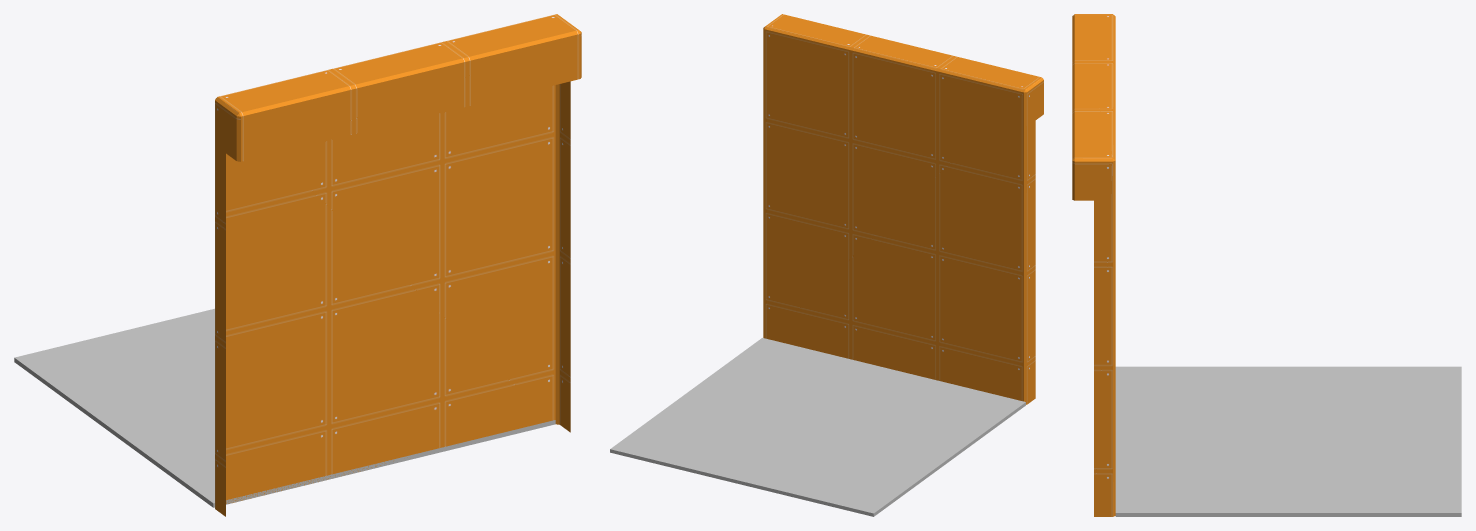
File: redGoal.fbx
The picture shows the model from 3 angles, left to right: view 1: azimuth 30°, elevation 25°; view 2: azimuth 150°, elevation 25°; view 3: azimuth 270°, elevation 25°; orthographic projection. The views are drawn at different scales.
Parts seen in each view (by area): view 1: redBlock1, redGoal; view 2: redBlock1, redGoal; view 3: redGoal, redBlock1.
Part boxes in pixels (x1,y1,x2,y2): redBlock1: [215, 14, 581, 516]; redGoal: [14, 308, 555, 507]; redBlock1: [763, 14, 1043, 404]; redGoal: [610, 338, 1025, 516]; redGoal: [1115, 366, 1461, 516]; redBlock1: [1072, 14, 1115, 516].
Bounding box in the file's own units: 4 × 4.56 × 4.5.
